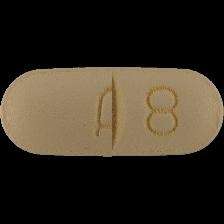65862-013: (0, 0, 224, 224)
